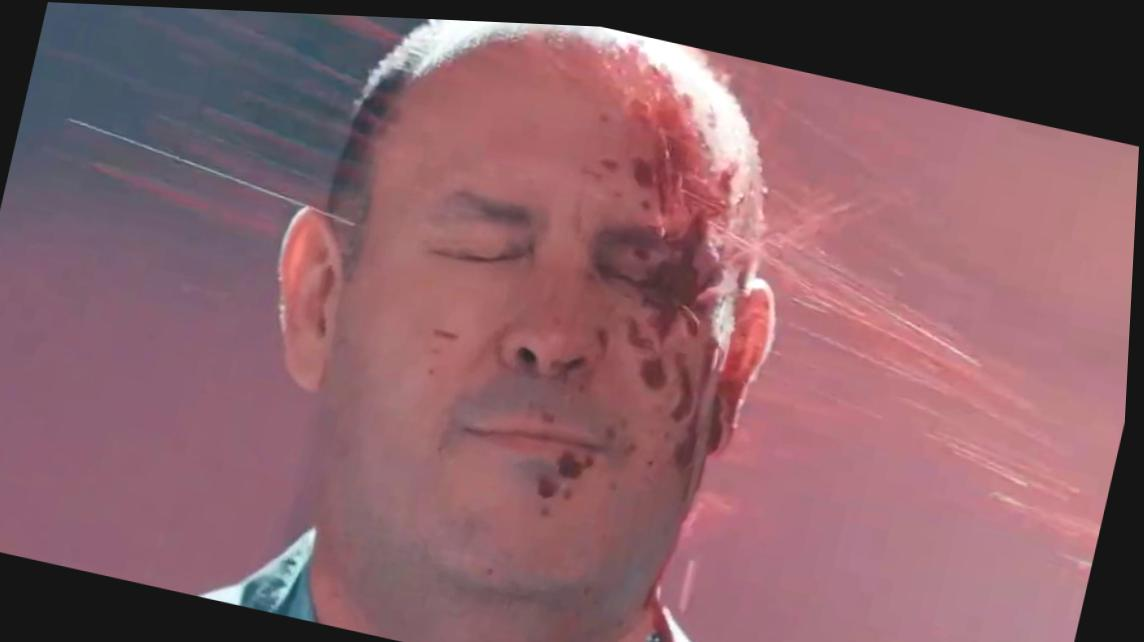Fire: (669, 43, 1140, 642), (332, 15, 775, 642), (0, 2, 417, 593)
